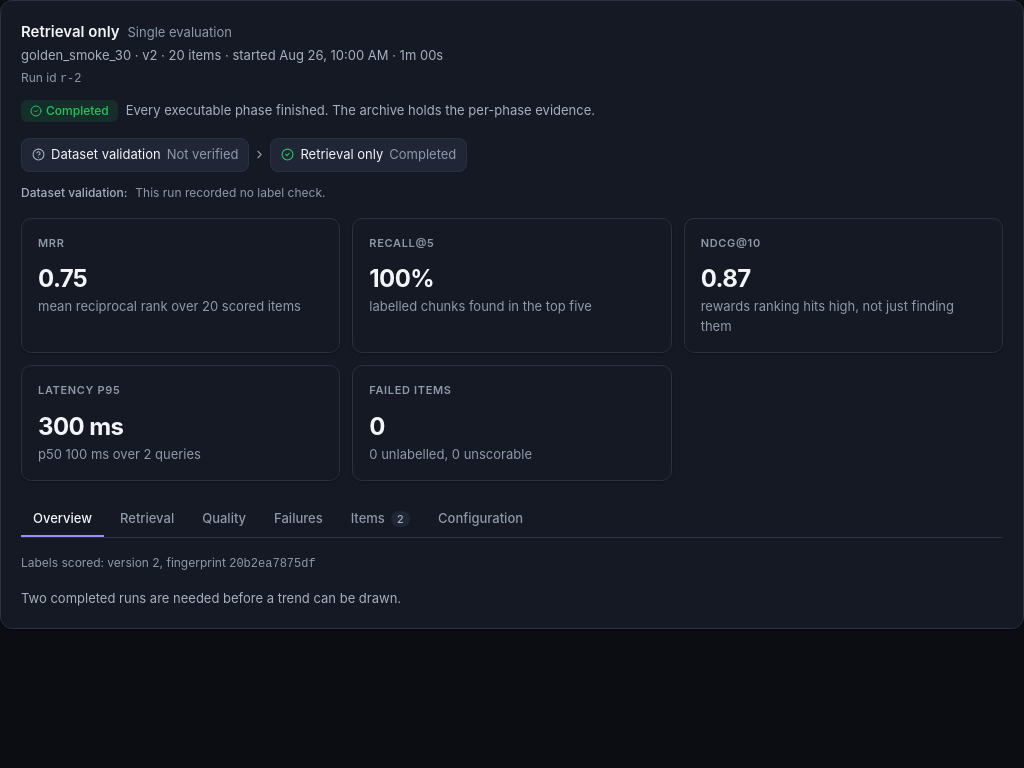
Test: report tabs › opens the retrieval evidence only when it is asked for
Check: the table "scores at each cutoff" is not shown
Click the tab "Retrieval". click: (147,519)
box: [108,501,186,536]
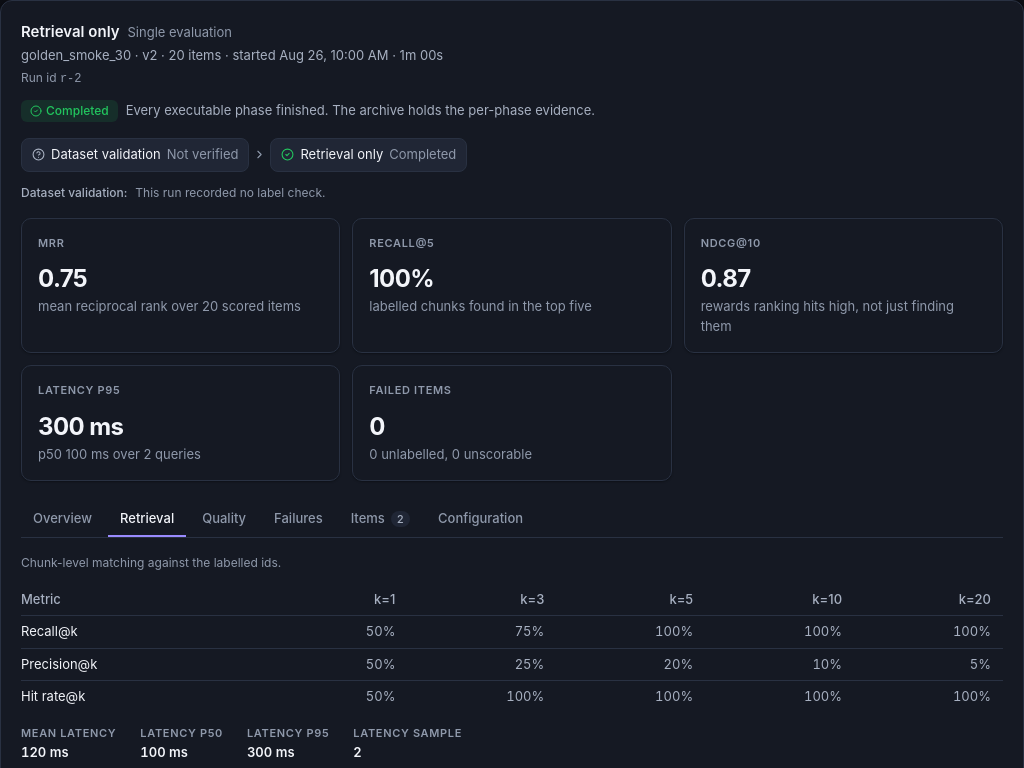
Check: the column heading "Recall@k" is shown, box [21,616,284,648]
Check: the text "75%" is shown, box [407,616,556,648]
